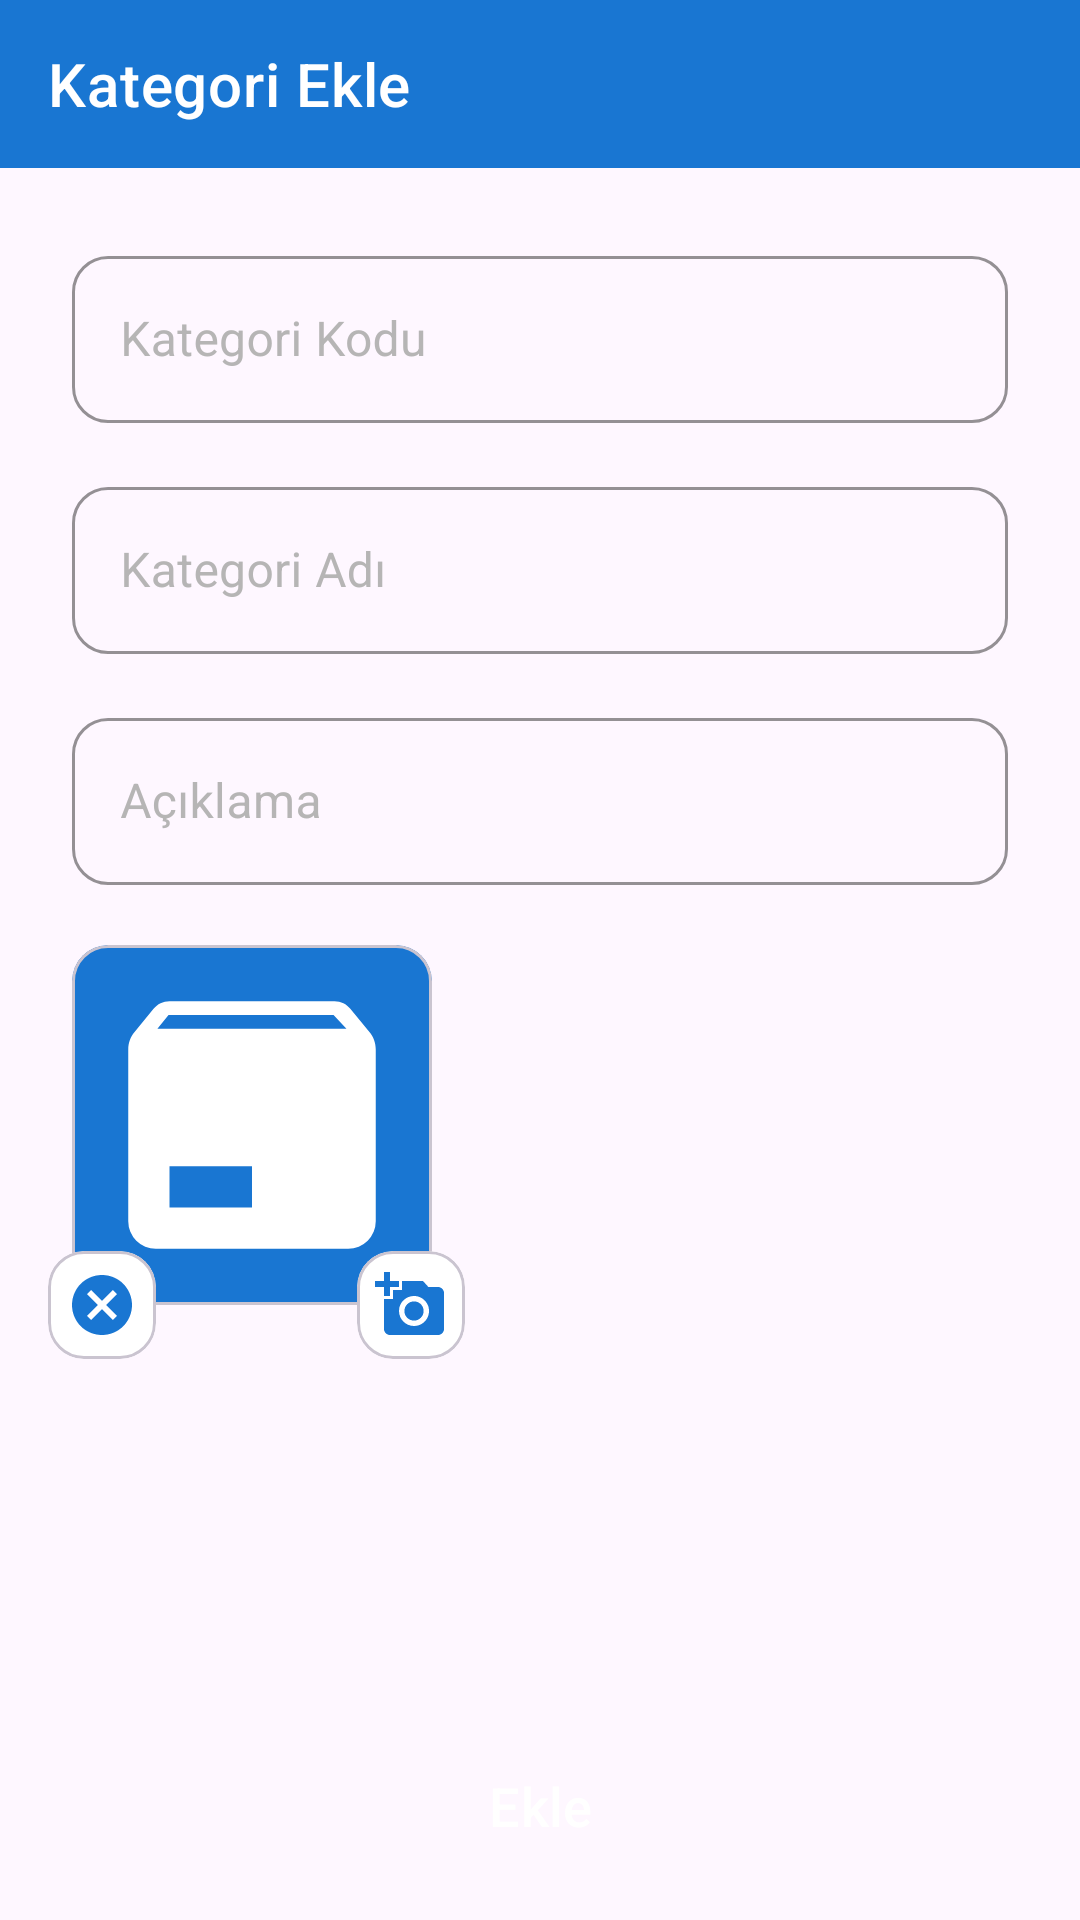

Where icons sit on this 1080 × 1920 app screen, as (x1, y1, x2, y2):
camera plus: (375, 1272, 444, 1335)
close circle: (72, 1275, 132, 1335)
